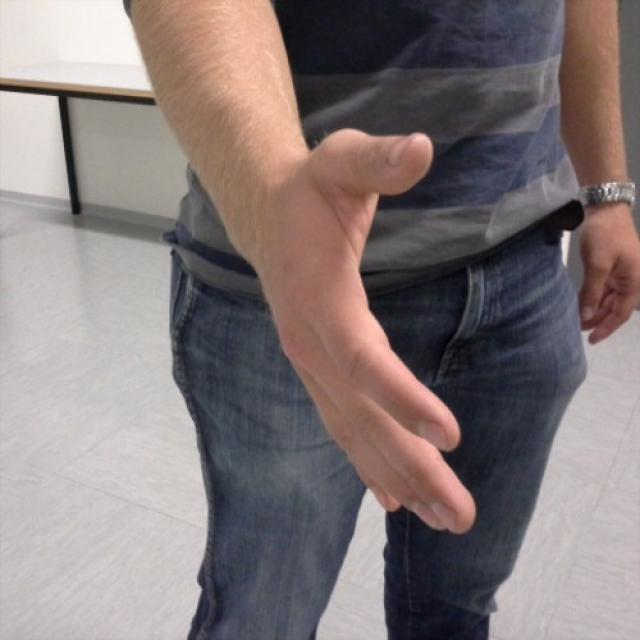paper: (264, 125, 480, 538)
